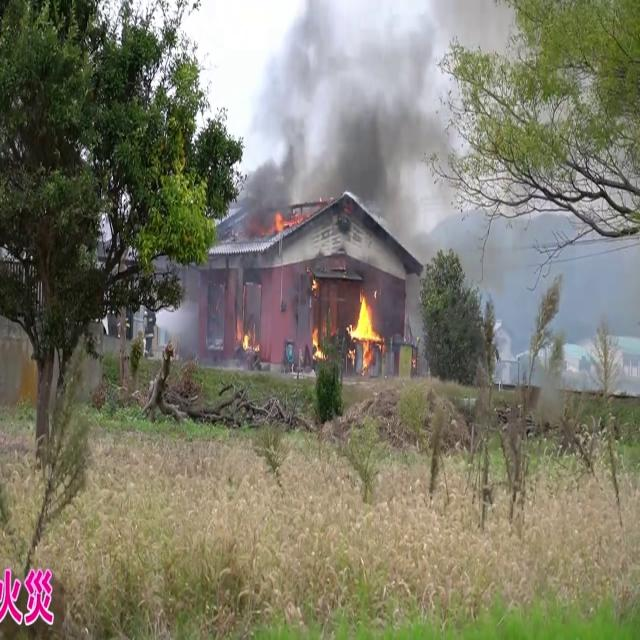Fire: (346, 288, 384, 362)
Smoke: (226, 0, 464, 232)
